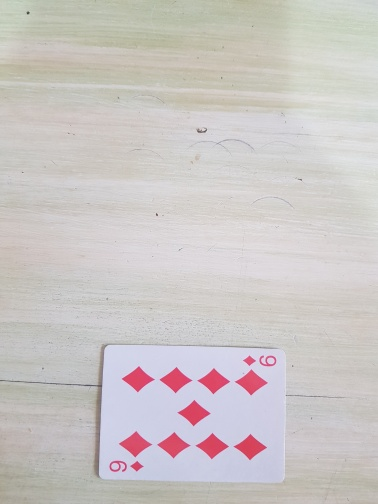nine: (96, 344, 288, 484)
